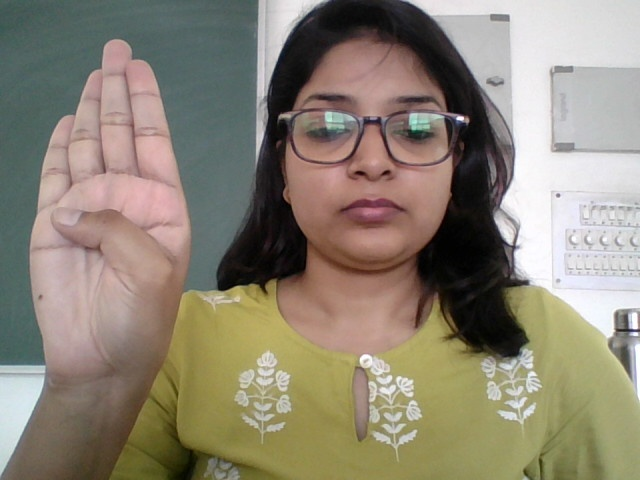B: (25, 35, 212, 407)
